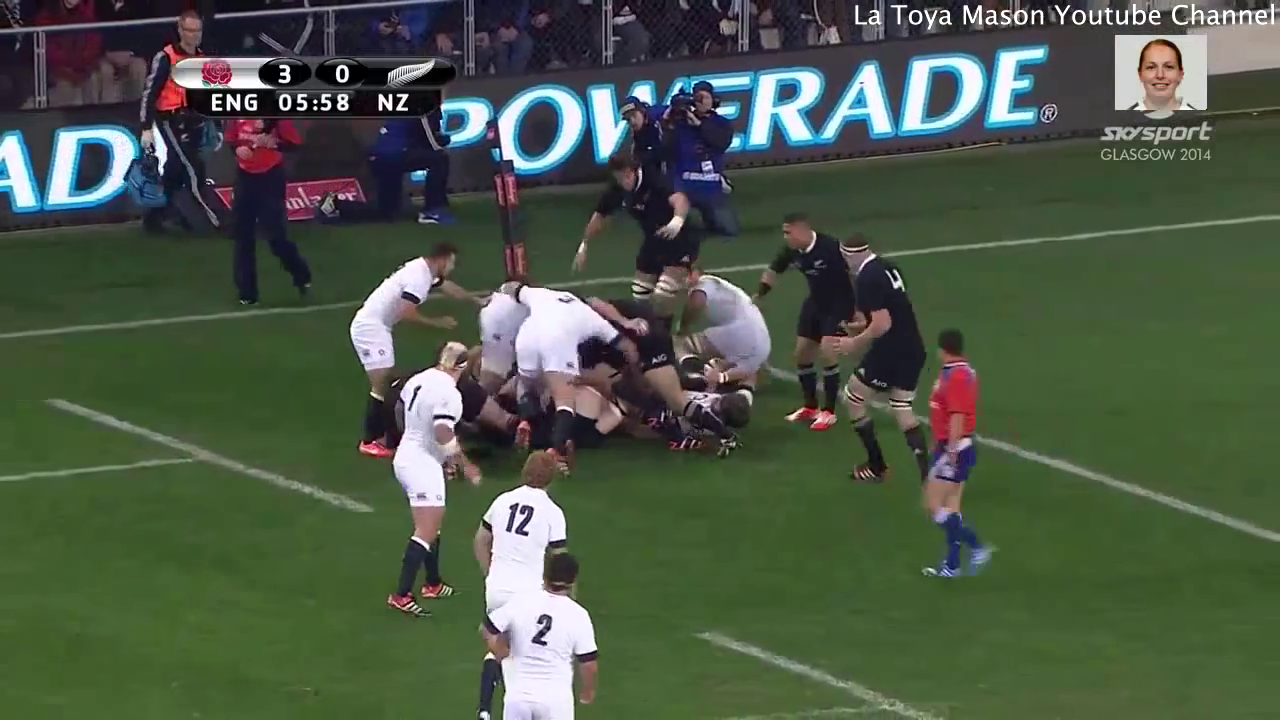player: (826, 230, 934, 489), (384, 339, 482, 624), (347, 234, 462, 472), (910, 316, 1011, 586), (480, 549, 605, 720), (763, 208, 847, 434), (472, 447, 580, 599), (505, 279, 598, 452), (671, 255, 776, 377), (592, 143, 694, 264)
ruck: (433, 262, 789, 459)
